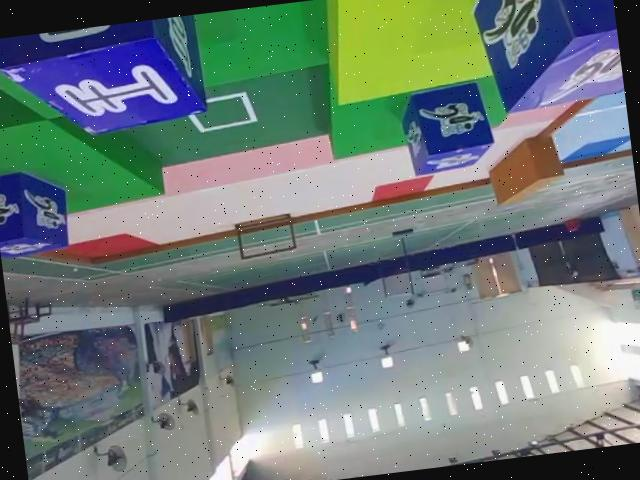R1 Blue: (470, 0, 625, 116), (395, 76, 496, 175), (0, 164, 70, 258)
R2 Fake Blue: (0, 13, 208, 145)
